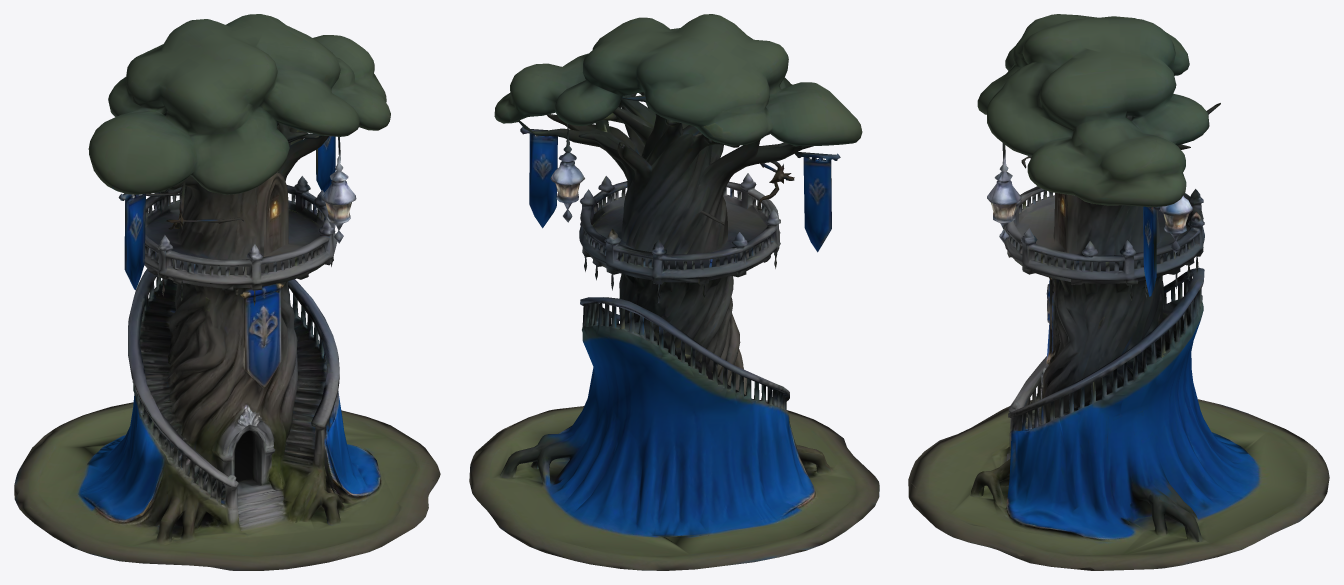
Rendered from elf_tower.glb.
3 renders of one model, left to right at view 1: azimuth 30°, elevation 25°; view 2: azimuth 150°, elevation 25°; view 3: azimuth 270°, elevation 25°, orthographic. The views are drawn at different scales.
Parts seen in each view (by area): view 1: node_0; view 2: node_0; view 3: node_0.
Boxes of the visible parts, x1=… form: node_0: x1=14, y1=14, x2=440, y2=570; node_0: x1=469, y1=14, x2=879, y2=570; node_0: x1=908, y1=14, x2=1329, y2=570.
Size of the model in its own units: 0.7718 by 0.9105 by 0.7703.
Materials: 1 (1 with a texture image).
